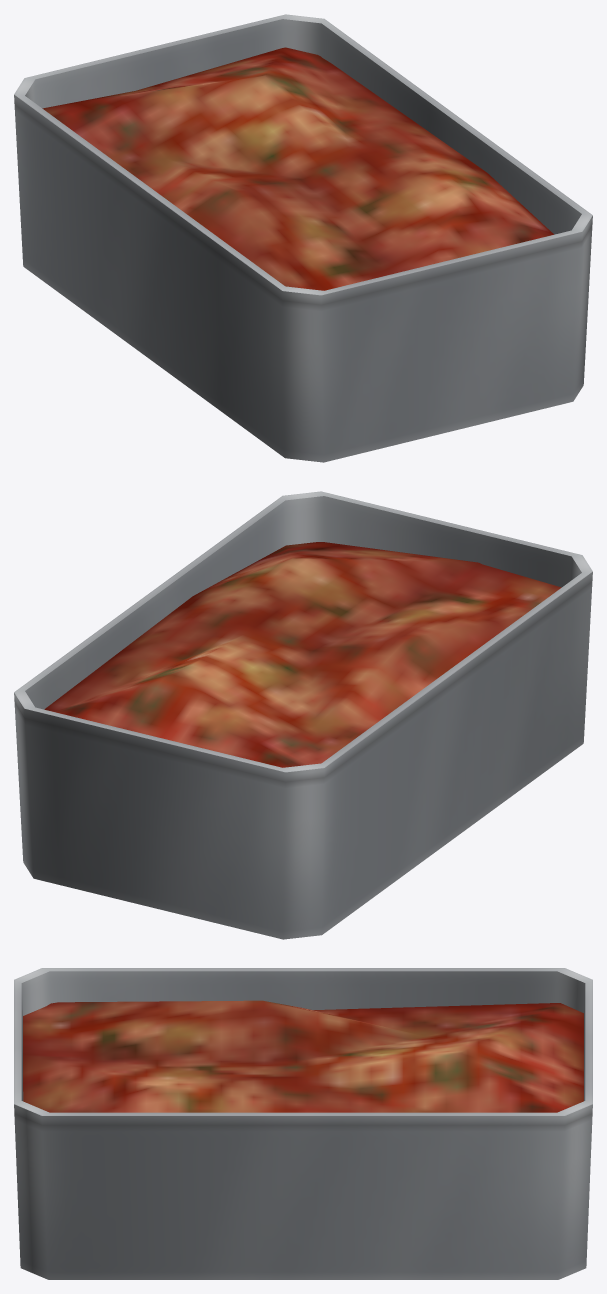
File: jsf_Ingredient_Kimchi.fbx
The picture shows the model from 3 angles, top to bottom: view 1: azimuth 30°, elevation 25°; view 2: azimuth 150°, elevation 25°; view 3: azimuth 270°, elevation 25°; orthographic projection. The views are drawn at different scales.
Visible parts, largest first — view 1: jsf_Ingredient_Kimchi; view 2: jsf_Ingredient_Kimchi; view 3: jsf_Ingredient_Kimchi.
Boxes of the visible parts, x1,y1,x2,y2 form: jsf_Ingredient_Kimchi: (14,14,592,462); jsf_Ingredient_Kimchi: (14,491,592,939); jsf_Ingredient_Kimchi: (14,968,592,1279).
Bounding box in the file's own units: 15.76 × 8.75 × 26.1.
